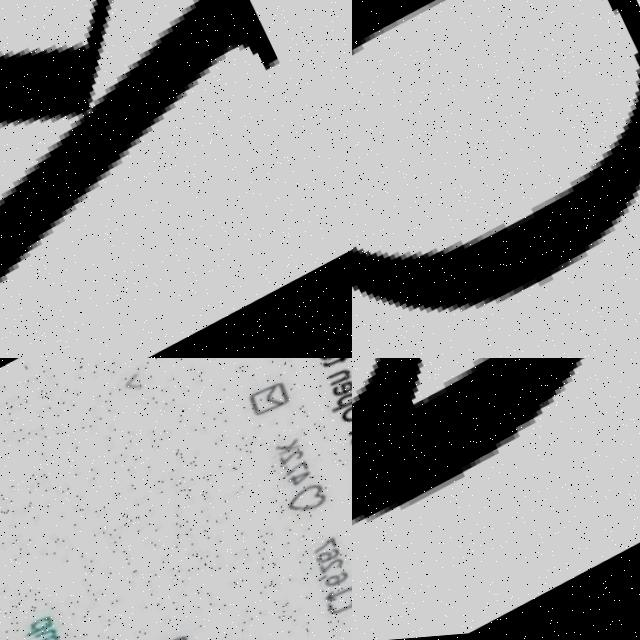2: (317, 561, 346, 584), (278, 453, 306, 476)
4: (286, 475, 314, 498)
6: (352, 358, 640, 609), (322, 575, 351, 599), (314, 552, 343, 574)
7: (281, 464, 312, 488), (310, 541, 340, 565)
K: (0, 0, 352, 358)
Q: (352, 0, 640, 358)
